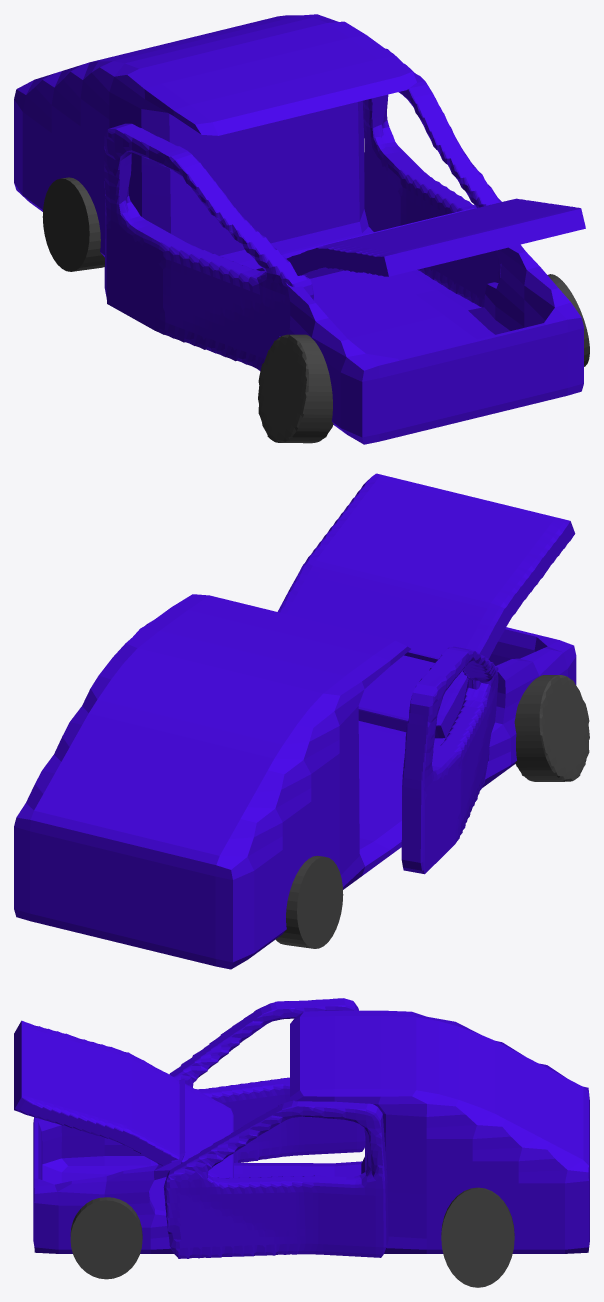
Rendered from car.glb.
3 views of the same model, one above another, from view 1: azimuth 30°, elevation 25°; view 2: azimuth 150°, elevation 25°; view 3: azimuth 270°, elevation 25° (orthographic). The views are drawn at different scales.
Parts seen in each view (by area): view 1: 立方体, 立方体.002, 立方体.010, 立方体.008, 円柱.002, 円柱.001, 円柱.003; view 2: 立方体, 立方体.008, 立方体.002, 円柱.002, 円柱.001; view 3: 立方体, 立方体.010, 立方体.008, 立方体.002, 円柱, 円柱.003.
Boxes of the visible parts, x1=… form: 立方体: x1=14, y1=14, x2=583, y2=444; 立方体.002: x1=104, y1=123, x2=313, y2=369; 立方体.010: x1=362, y1=48, x2=501, y2=307; 立方体.008: x1=256, y1=198, x2=585, y2=278; 円柱.002: x1=258, y1=334, x2=333, y2=443; 円柱.001: x1=42, y1=177, x2=104, y2=271; 円柱.003: x1=547, y1=274, x2=589, y2=366; 立方体: x1=14, y1=594, x2=576, y2=969; 立方体.008: x1=277, y1=473, x2=575, y2=738; 立方体.002: x1=401, y1=646, x2=498, y2=874; 円柱.002: x1=514, y1=675, x2=589, y2=781; 円柱.001: x1=275, y1=855, x2=343, y2=948; 立方体: x1=33, y1=1010, x2=589, y2=1253; 立方体.010: x1=163, y1=1100, x2=388, y2=1258; 立方体.008: x1=14, y1=1020, x2=233, y2=1177; 立方体.002: x1=158, y1=998, x2=365, y2=1164; 円柱: x1=441, y1=1187, x2=514, y2=1287; 円柱.003: x1=70, y1=1197, x2=142, y2=1279.
Bounding box in the file's own units: 2.48 × 1.68 × 4.77.
